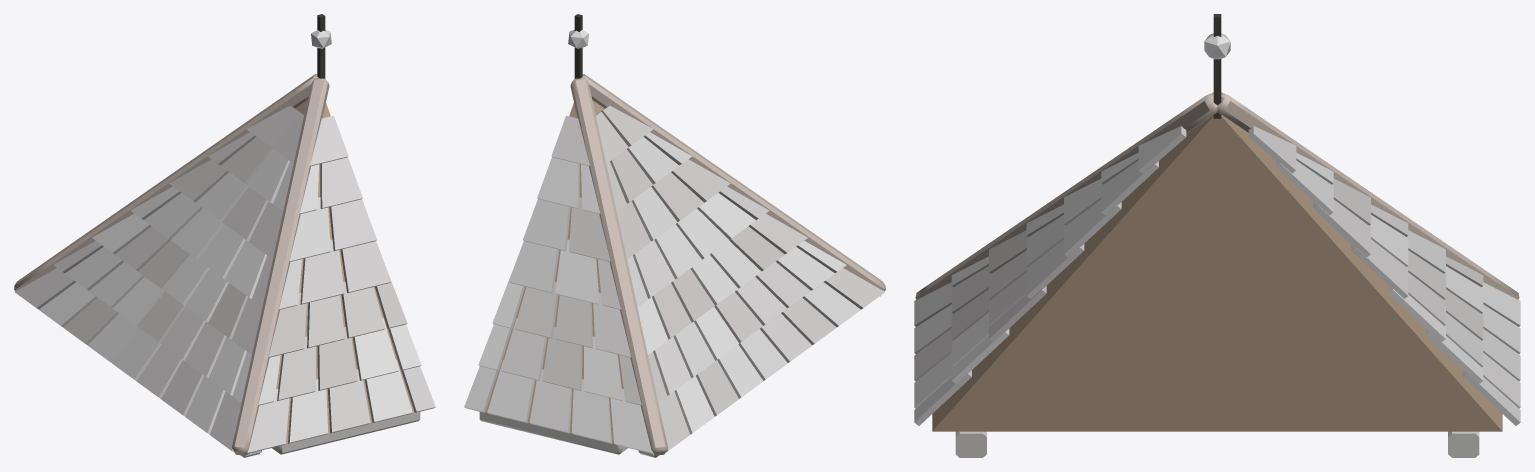
The model's file is Kit_RealTower_CrRfB.fbx.
3 views of the same model, side by side, from view 1: azimuth 30°, elevation 25°; view 2: azimuth 150°, elevation 25°; view 3: azimuth 270°, elevation 25° (orthographic). The views are drawn at different scales.
Parts seen in each view (by area): view 1: Kit_RealTower_CrRfB_LOD0; view 2: Kit_RealTower_CrRfB_LOD0; view 3: Kit_RealTower_CrRfB_LOD0.
Boxes of the visible parts, x1,y1,x2,y2 form: Kit_RealTower_CrRfB_LOD0: (14, 14, 435, 457); Kit_RealTower_CrRfB_LOD0: (464, 14, 885, 457); Kit_RealTower_CrRfB_LOD0: (914, 14, 1520, 457).
Size of what is drawn, in the model's own units: 1.42 by 2.18 by 2.71.
